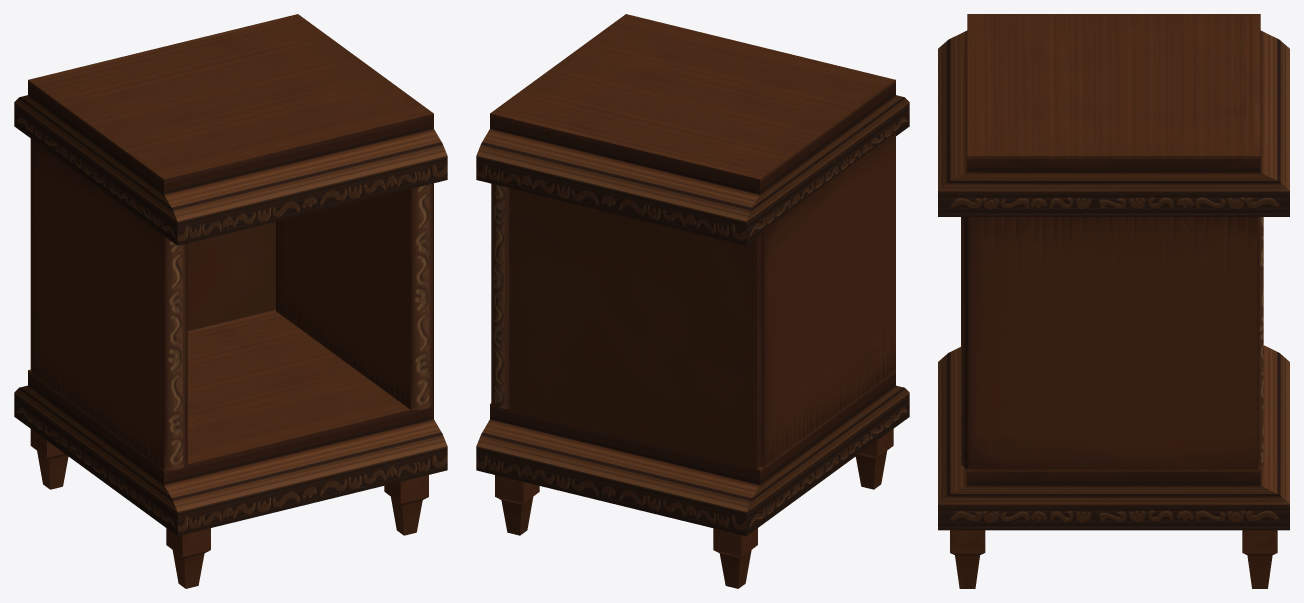
The model's file is Modular_CabinetOpen_Single.fbx.
3 renders of one model, left to right at view 1: azimuth 30°, elevation 25°; view 2: azimuth 150°, elevation 25°; view 3: azimuth 270°, elevation 25°, orthographic. The views are drawn at different scales.
Visible parts, largest first — view 1: Bevelled_MID_TnB4, Bevelled_MID_TnB3, Panel23, Panel22, InsidePanels_Base17, Leg10, Leg7, Leg9; view 2: Bevelled_MID_TnB4, InsidePanels_Base17, Panel23, Bevelled_MID_TnB3, Panel22, Leg9, Leg8, Leg10; view 3: Panel22, Bevelled_MID_TnB4, Bevelled_MID_TnB3, Leg8, Leg7.
Boxes of the visible parts, x1,y1,x2,y2 form: Bevelled_MID_TnB4: (14,14,447,245); Bevelled_MID_TnB3: (14,310,447,535); Panel23: (31,136,187,469); Panel22: (276,183,433,409); InsidePanels_Base17: (30,138,275,369); Leg10: (166,528,210,588); Leg7: (384,475,428,535); Leg9: (30,429,68,489); Bevelled_MID_TnB4: (476,14,909,245); InsidePanels_Base17: (491,184,757,470); Panel23: (757,132,895,467); Bevelled_MID_TnB3: (476,370,909,536); Panel22: (491,184,509,408); Leg9: (713,528,757,588); Leg8: (495,475,539,535); Leg10: (855,429,893,489); Panel22: (961,217,1263,469); Bevelled_MID_TnB4: (938,14,1289,216); Bevelled_MID_TnB3: (938,345,1289,530); Leg8: (1242,530,1277,588); Leg7: (950,530,985,588).
Bounding box in the file's own units: 63.86 × 92.97 × 66.79.
